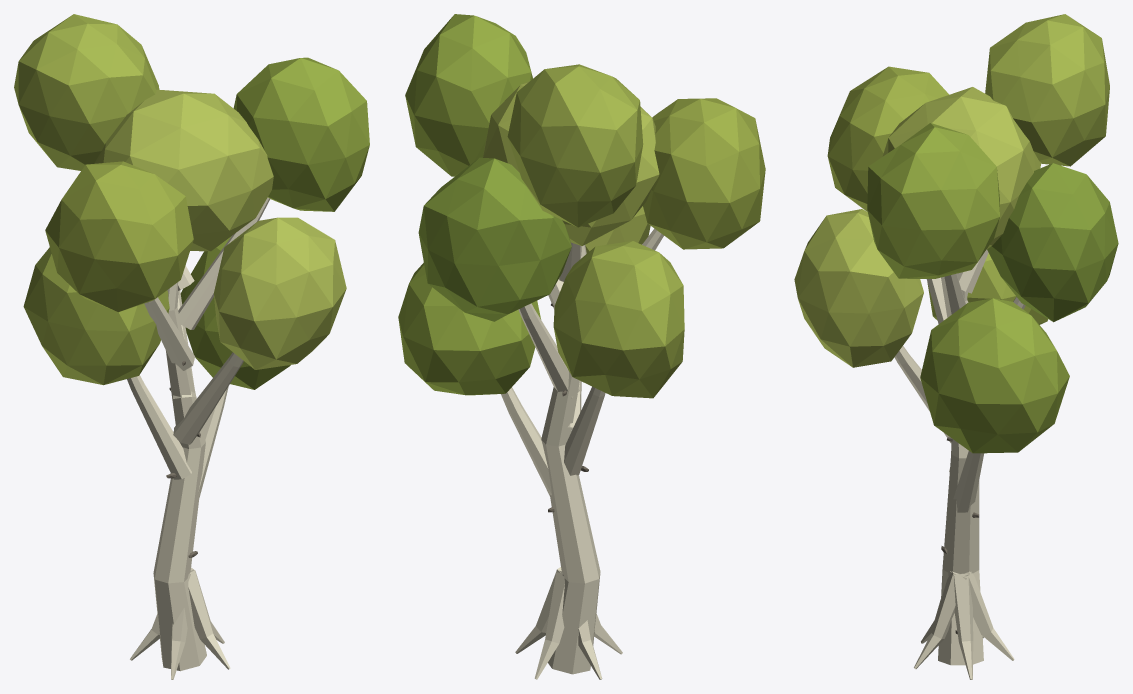
The model's file is Birch.fbx.
The picture shows the model from 3 angles, left to right: view 1: azimuth 30°, elevation 25°; view 2: azimuth 150°, elevation 25°; view 3: azimuth 270°, elevation 25°; orthographic projection. The views are drawn at different scales.
Visible parts, largest first — view 1: Birch; view 2: Birch; view 3: Birch.
Boxes of the visible parts, x1,y1,x2,y2 form: Birch: (14,14,369,679); Birch: (398,14,765,679); Birch: (794,14,1118,679).
Size of the model in its own units: 289 by 551 by 263.
